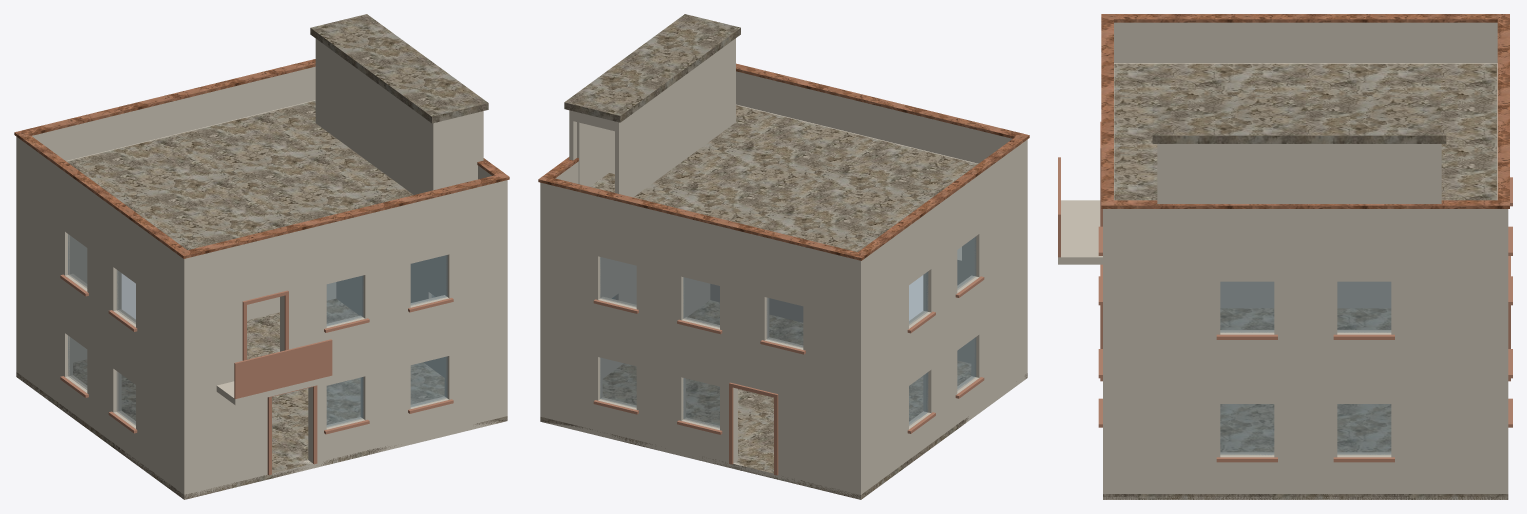
The model's file is bay-villa-cream.coast-v1.lod1.glb.
3 views of the same model, side by side, from view 1: azimuth 30°, elevation 25°; view 2: azimuth 150°, elevation 25°; view 3: azimuth 270°, elevation 25° (orthographic). The views are drawn at different scales.
Parts seen in each view (by area): view 1: bay-villa-cream; view 2: bay-villa-cream; view 3: bay-villa-cream.
Boxes of the visible parts, left/top/right/bottom form: bay-villa-cream: left=14, top=14, right=509, bottom=499; bay-villa-cream: left=538, top=14, right=1029, bottom=499; bay-villa-cream: left=1058, top=14, right=1512, bottom=499.
Size of the model in its own units: 10.2 by 8.95 by 10.1.
Materials: 3 (1 with a texture image).
